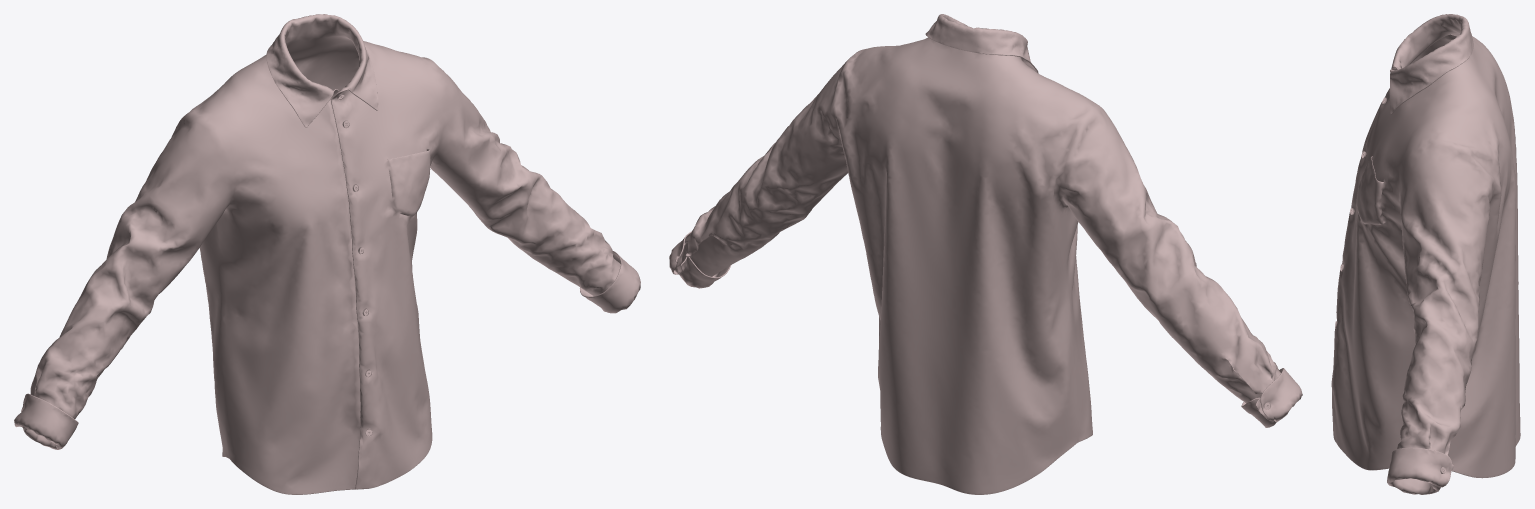
Rendered from 1762309306630-lugaFata.glb.
3 renders of one model, left to right at view 1: azimuth 30°, elevation 25°; view 2: azimuth 150°, elevation 25°; view 3: azimuth 270°, elevation 25°, orthographic. The views are drawn at different scales.
Parts seen in each view (by area): view 1: Shirt_OBJobjcleanermaterialmergergles; view 2: Shirt_OBJobjcleanermaterialmergergles; view 3: Shirt_OBJobjcleanermaterialmergergles.
Part boxes in pixels (x1,y1,x2,y2): Shirt_OBJobjcleanermaterialmergergles: (14,14,640,494); Shirt_OBJobjcleanermaterialmergergles: (669,14,1302,494); Shirt_OBJobjcleanermaterialmergergles: (1331,14,1520,494).
Bounding box in the file's own units: 11.47 × 7.77 × 3.12.
9 materials, 2 textured.
